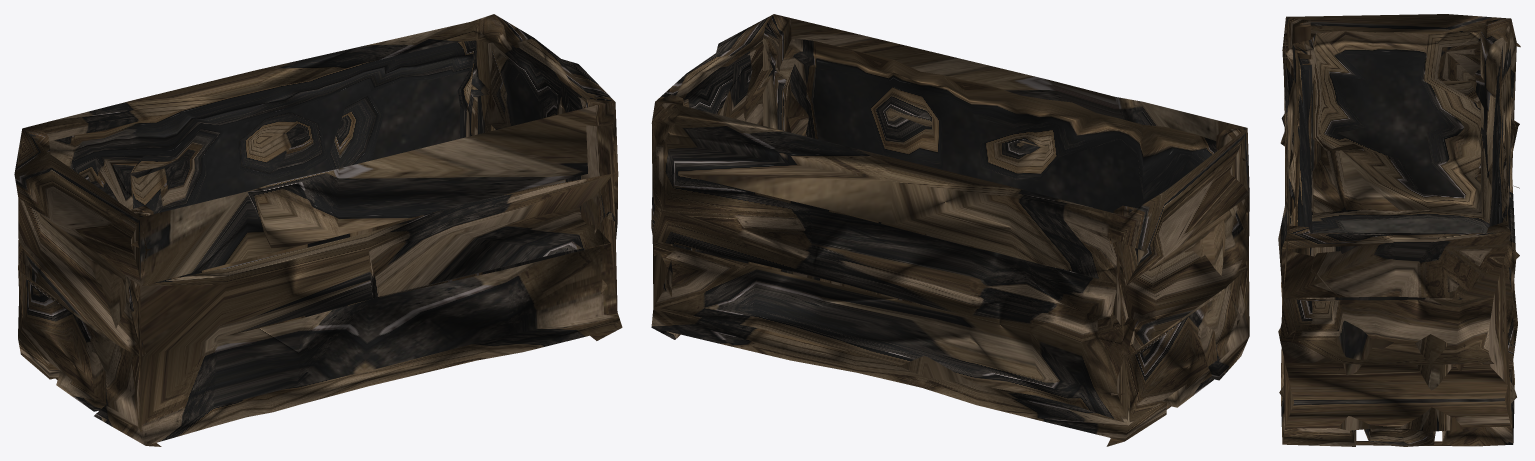
Rendered from planter_box_01.glb.
3 renders of one model, left to right at view 1: azimuth 30°, elevation 25°; view 2: azimuth 150°, elevation 25°; view 3: azimuth 270°, elevation 25°, orthographic. The views are drawn at different scales.
Parts seen in each view (by area): view 1: planter_box_01; view 2: planter_box_01; view 3: planter_box_01.
Part boxes in pixels (box(x1,y1,x2,y2)): planter_box_01: box(14, 14, 622, 446); planter_box_01: box(651, 14, 1249, 446); planter_box_01: box(1278, 14, 1520, 446).
Bounding box in the file's own units: 0.9042 × 0.4153 × 0.4114.
Materials: 1 (1 with a texture image).
